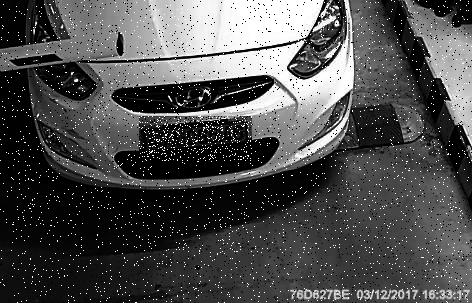License-plate: (140, 118, 253, 163)
